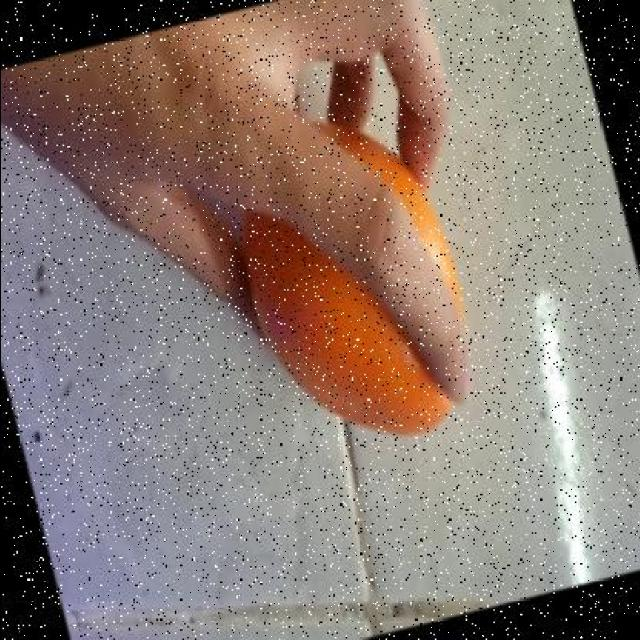Orange: (237, 118, 474, 436)
